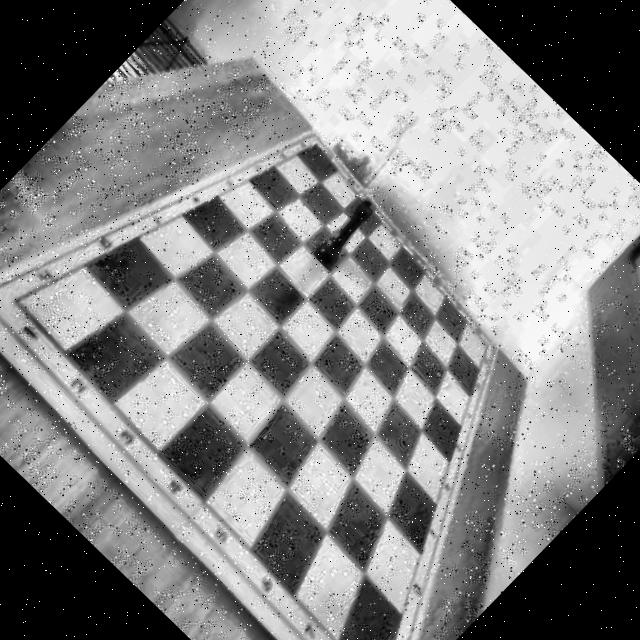black-rook: (305, 192, 380, 268)
